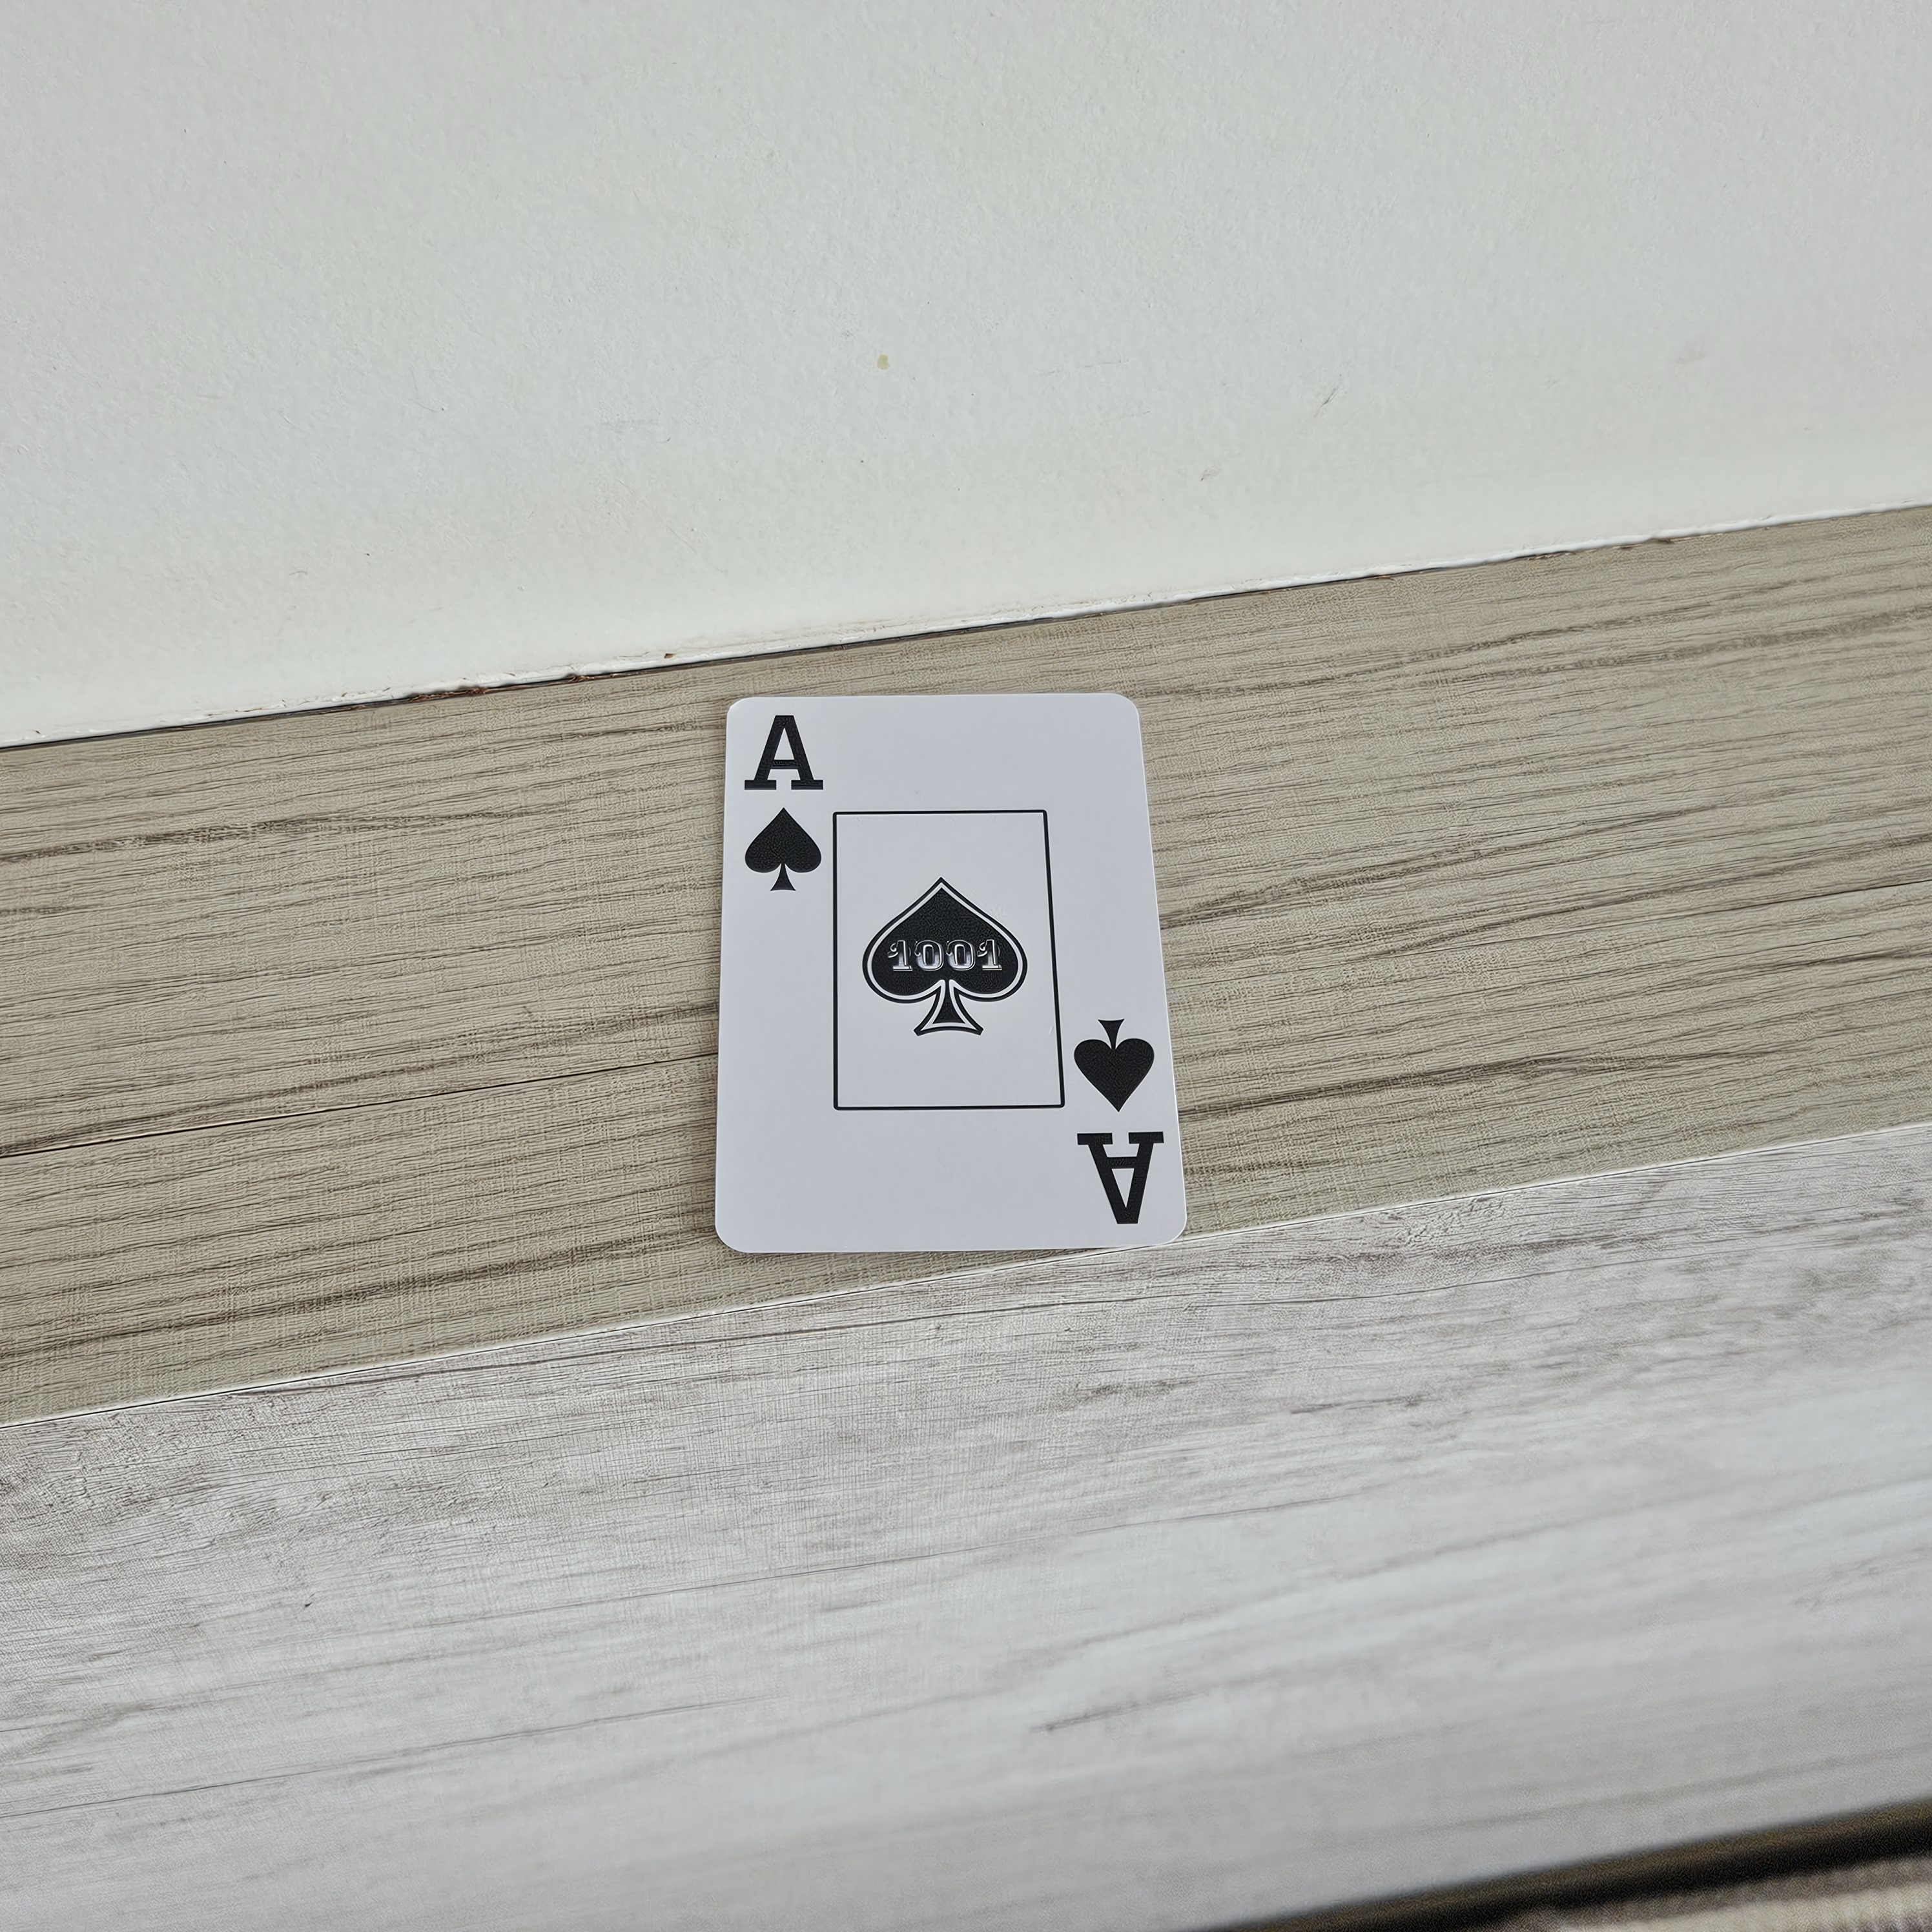AE: (1067, 1007, 1169, 1235), (729, 704, 833, 916)
